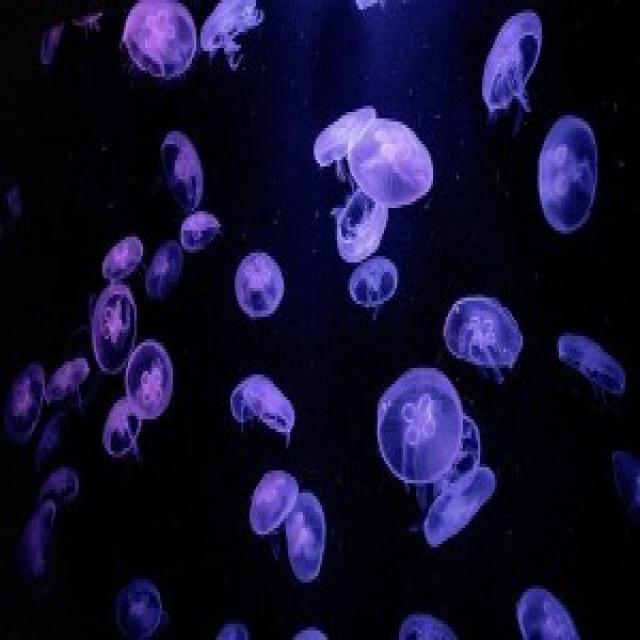Jellyfish: (377, 367, 460, 487), (536, 104, 602, 239), (345, 117, 437, 209), (418, 462, 509, 552), (535, 114, 595, 239), (441, 291, 530, 372), (478, 10, 543, 116), (120, 0, 190, 95), (482, 7, 540, 111), (325, 185, 398, 262), (557, 328, 631, 403), (199, 0, 261, 83), (228, 365, 301, 434), (125, 331, 175, 424), (288, 490, 336, 584), (228, 251, 288, 319), (114, 570, 172, 640), (13, 498, 61, 579), (314, 104, 376, 165), (346, 251, 406, 313), (90, 290, 132, 378), (248, 472, 301, 540), (165, 132, 207, 196), (95, 235, 153, 280), (178, 212, 227, 258), (141, 236, 175, 298), (102, 398, 136, 456), (459, 408, 488, 464)
